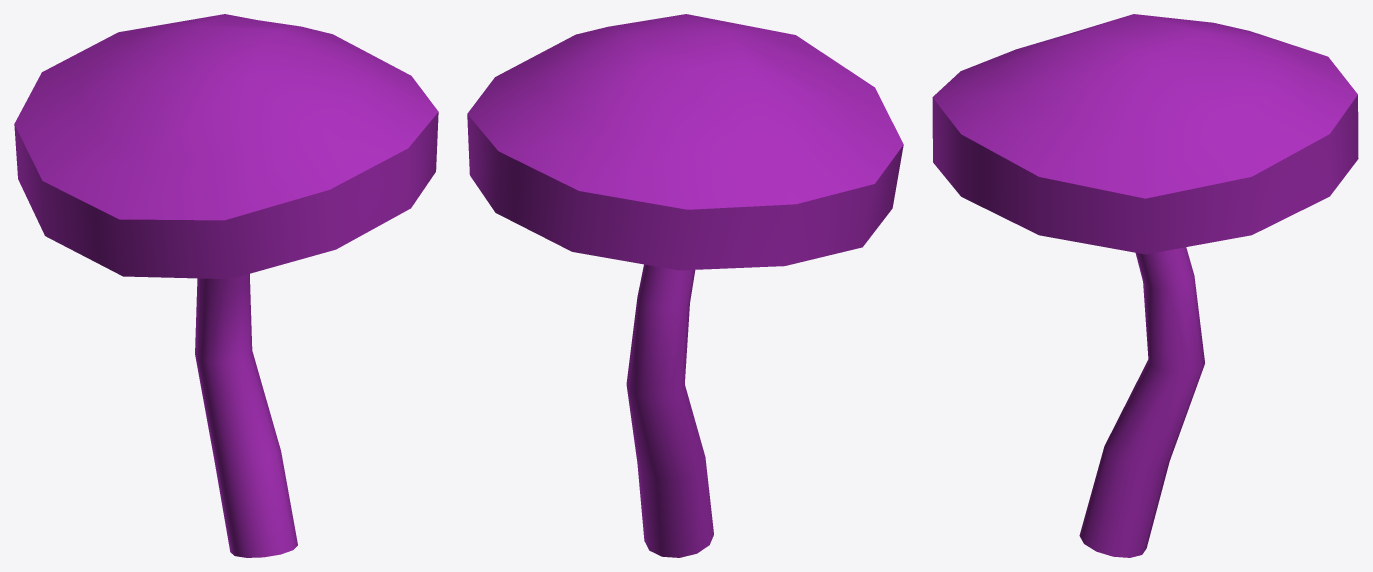
The model's file is fbx_Foliage_Mushroom01.FBX.
3 views of the same model, side by side, from view 1: azimuth 30°, elevation 25°; view 2: azimuth 150°, elevation 25°; view 3: azimuth 270°, elevation 25° (orthographic). The views are drawn at different scales.
Parts seen in each view (by area): view 1: mesh_Foliage_Mushroom01; view 2: mesh_Foliage_Mushroom01; view 3: mesh_Foliage_Mushroom01.
Part boxes in pixels (x1=…): mesh_Foliage_Mushroom01: x1=14, y1=14, x2=438, y2=557; mesh_Foliage_Mushroom01: x1=467, y1=14, x2=903, y2=557; mesh_Foliage_Mushroom01: x1=932, y1=14, x2=1358, y2=557.
Bounding box in the file's own units: 8.24 × 10.72 × 8.18.
